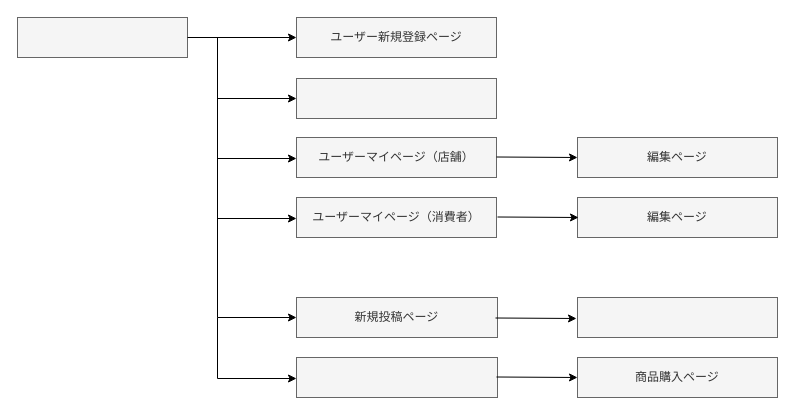
Image size: 795x415. Some labels were removed from this diagram. Here are the shapes that lost their labels. From the top down, the centre of each, then its label:
At point 102,37: "トップページ（投稿一覧）".
At point 396,98: "ユーザーログインページ".
At point 677,317: "投稿編集ページ".
At point 397,377: "投稿詳細ページ".
